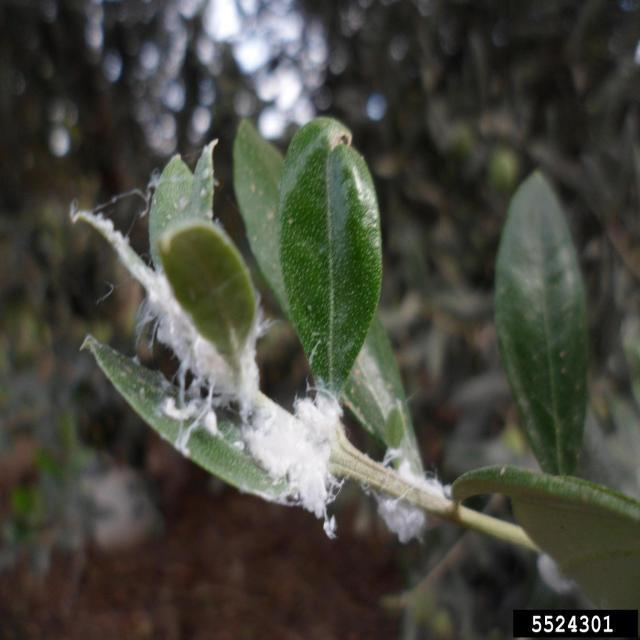Psyllid: (70, 149, 470, 542)
